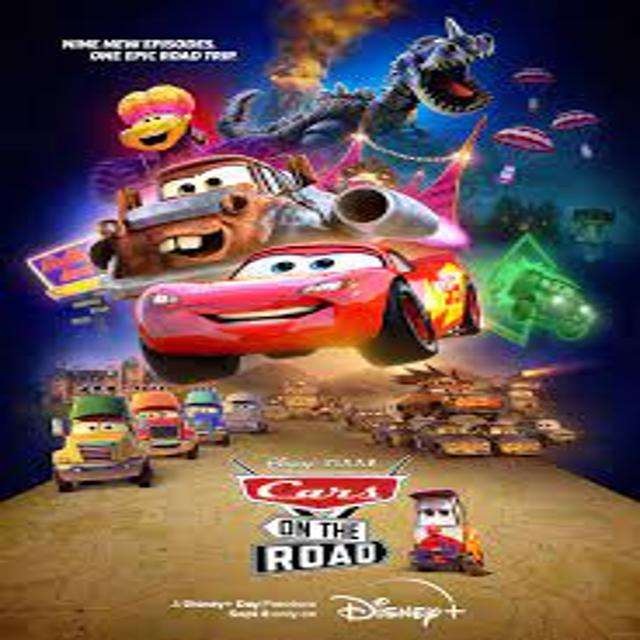car: (135, 242, 481, 385)
